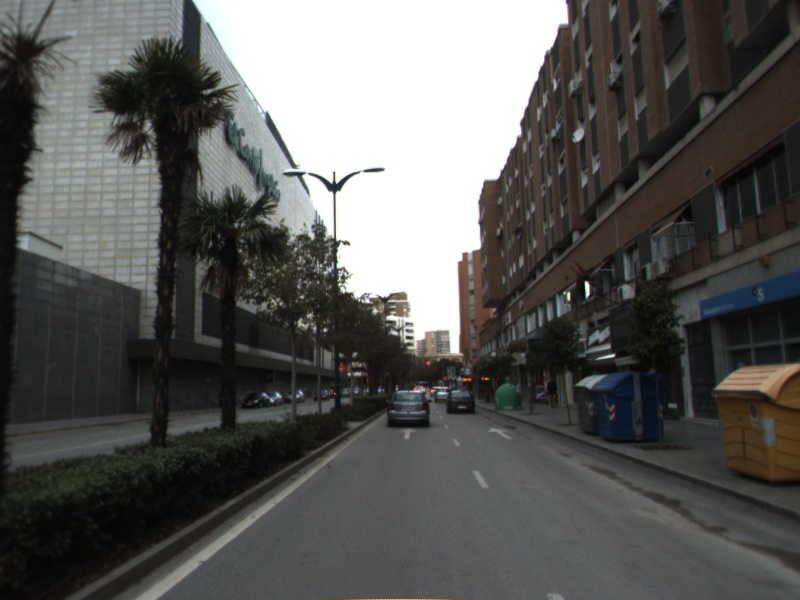STRAIGHT: (486, 425, 515, 442), (397, 426, 420, 441)
